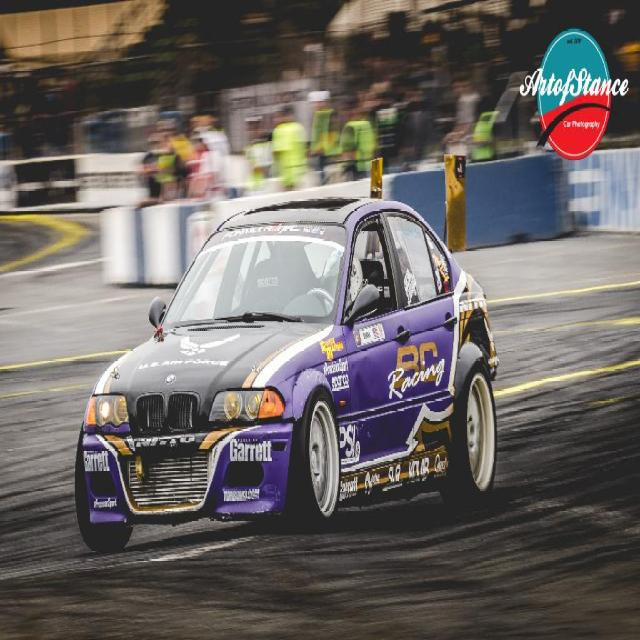car: (82, 196, 504, 534)
